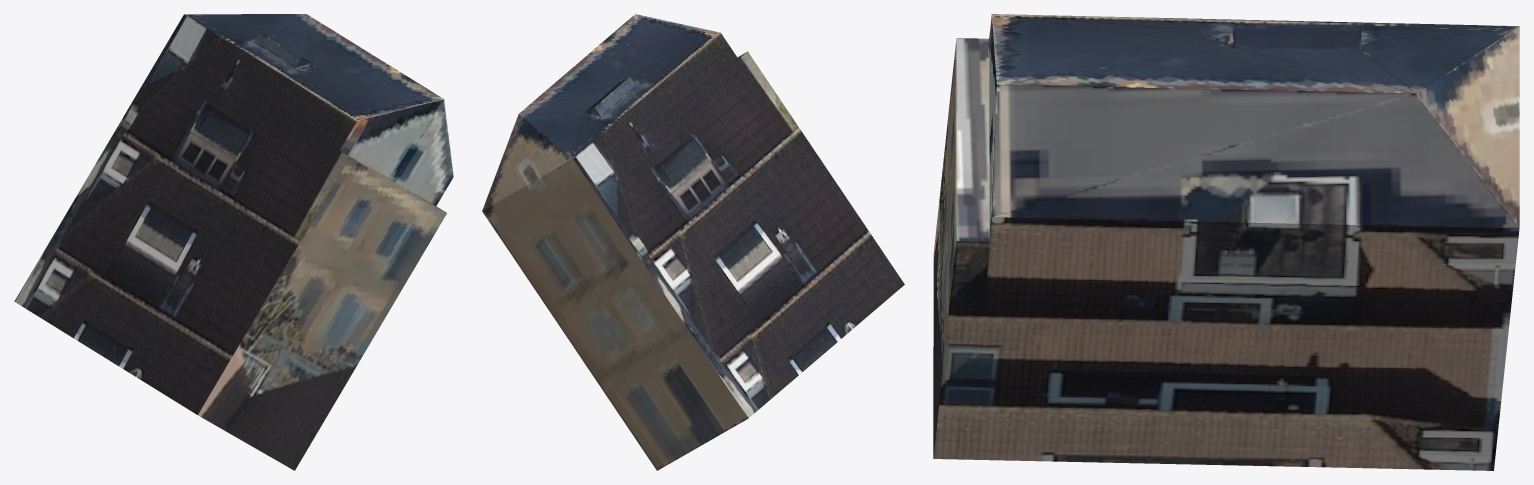
3 renders of one model, left to right at view 1: azimuth 30°, elevation 25°; view 2: azimuth 150°, elevation 25°; view 3: azimuth 270°, elevation 25°, orthographic. The views are drawn at different scales.
Visible parts, largest first — view 1: BAG_0599100000688707 (×4); view 2: BAG_0599100000688707 (×4); view 3: BAG_0599100000688707 (×4).
Boxes of the visible parts, x1,y1,x2,y2 form: BAG_0599100000688707 (×4): [14, 14, 453, 470]; BAG_0599100000688707 (×4): [482, 14, 904, 470]; BAG_0599100000688707 (×4): [933, 14, 1519, 470].
Size of the model in its own units: 11.14 by 12.5 by 12.47.
Materials: 5 (5 with a texture image).
